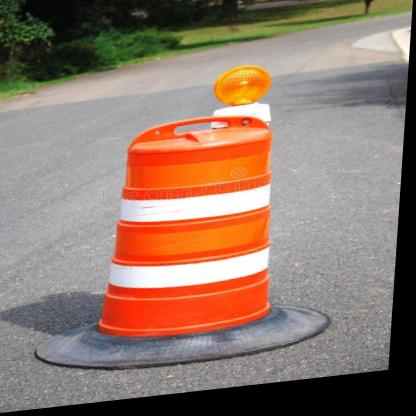obstacle: (104, 119, 291, 357)
